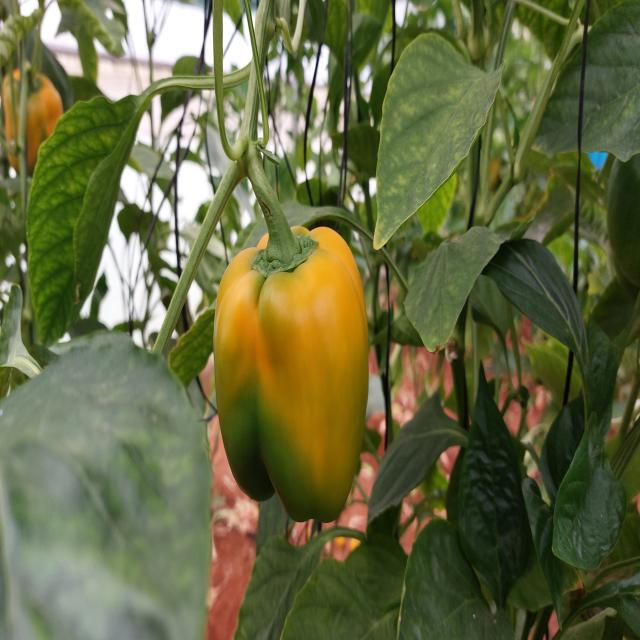GreenishYellow--Can-be-Harvested: (216, 221, 385, 531)
